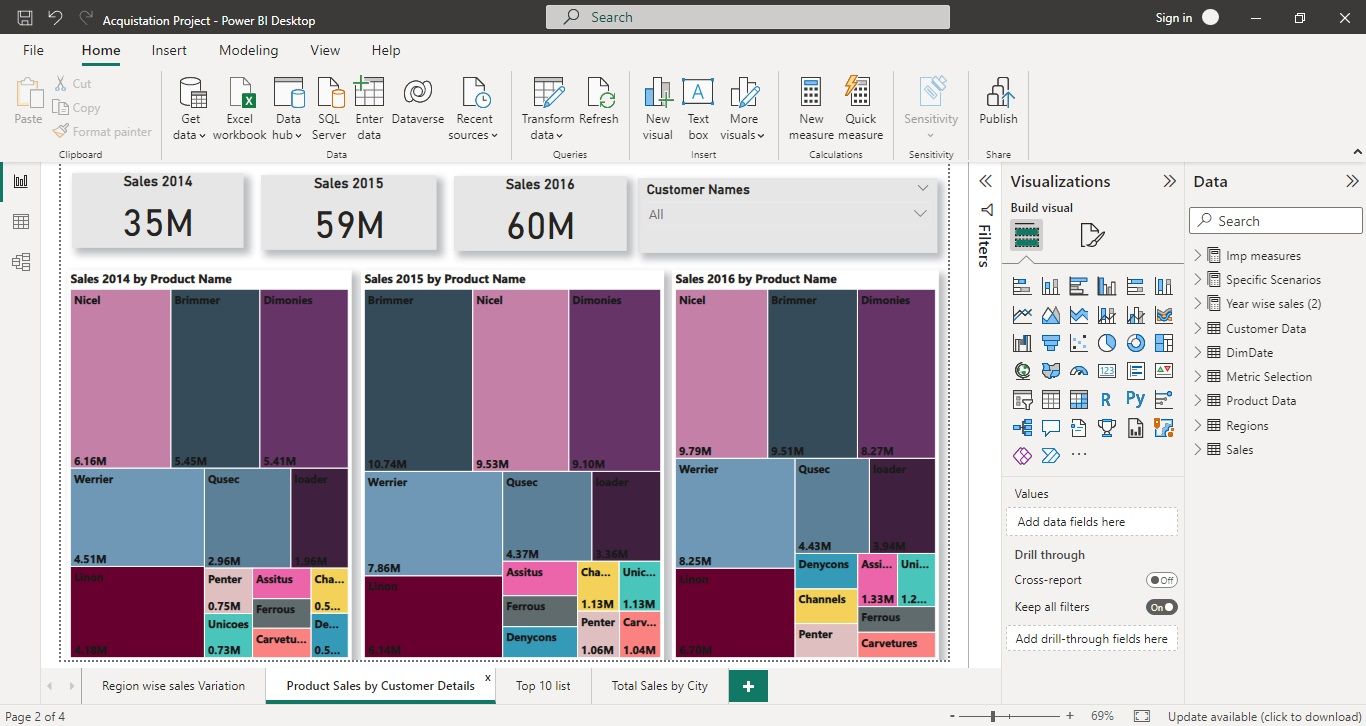

The page's visual inventory and layout, read from the dashboard file:
{"tool":"powerbi","page":{"name":"Product Sales by Customer Details","canvas":[1280,720],"ordinal":1},"visuals":[{"type":"treemap","fields":{"Group":["Product Data.Product Name"],"Values":["Year wise sales (2).Sales 2014"]},"box":[0,156,433,564.3],"z":0},{"type":"treemap","fields":{"Group":["Product Data.Product Name"],"Values":["Year wise sales (2).Sales 2015"]},"box":[433,156,449.1,564.3],"z":1000},{"type":"treemap","fields":{"Group":["Product Data.Product Name"],"Values":["Year wise sales (2).Sales 2016"]},"box":[882.1,156,398,564.3],"z":2000},{"type":"slicer","fields":{"Values":["Customer Data.Customer Names"]},"box":[847.1,10.2,433,107.9],"z":3000},{"type":"card","fields":{"Values":["Year wise sales (2).Sales 2014"]},"box":[0,10.2,279.9,107.9],"z":4000},{"type":"card","fields":{"Values":["Year wise sales (2).Sales 2015"]},"box":[279.9,10.2,279.9,107.9],"z":5000},{"type":"card","fields":{"Values":["Year wise sales (2).Sales 2016"]},"box":[559.9,10.2,277,107.9],"z":6000}]}

Visuals, with their boxes on the page's 1280x720 design canvas (x1, y1, x2, y2). These are canvas units, not pixel positions in the 1366x726 screenshot, which may show the page scaled, cropped or inside an application window:
treemap - Product Data.Product Name x Year wise sales (2).Sales 2014: {"x1": 0, "y1": 156, "x2": 433, "y2": 720}
treemap - Product Data.Product Name x Year wise sales (2).Sales 2015: {"x1": 433, "y1": 156, "x2": 882, "y2": 720}
treemap - Product Data.Product Name x Year wise sales (2).Sales 2016: {"x1": 882, "y1": 156, "x2": 1280, "y2": 720}
slicer - Customer Data.Customer Names: {"x1": 847, "y1": 10, "x2": 1280, "y2": 118}
card - Year wise sales (2).Sales 2014: {"x1": 0, "y1": 10, "x2": 280, "y2": 118}
card - Year wise sales (2).Sales 2015: {"x1": 280, "y1": 10, "x2": 560, "y2": 118}
card - Year wise sales (2).Sales 2016: {"x1": 560, "y1": 10, "x2": 837, "y2": 118}
